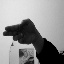h: (2, 17, 38, 45)
